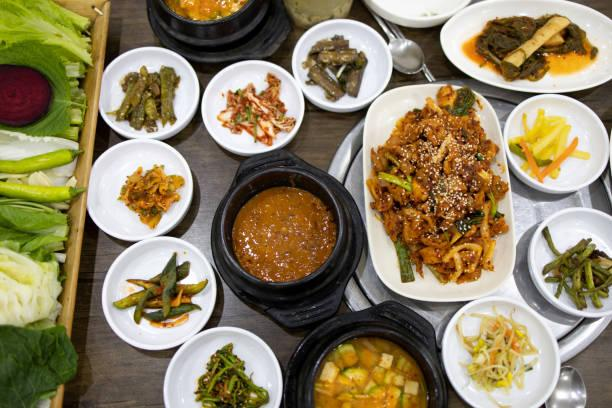Braised Crucian Carp: (361, 81, 514, 302), (208, 149, 361, 327), (283, 301, 447, 407), (440, 0, 610, 95), (441, 296, 562, 406), (101, 237, 215, 350), (86, 138, 193, 240), (504, 93, 608, 196), (201, 59, 305, 157), (99, 45, 199, 140), (290, 18, 390, 113), (162, 326, 280, 405), (528, 207, 612, 315)
